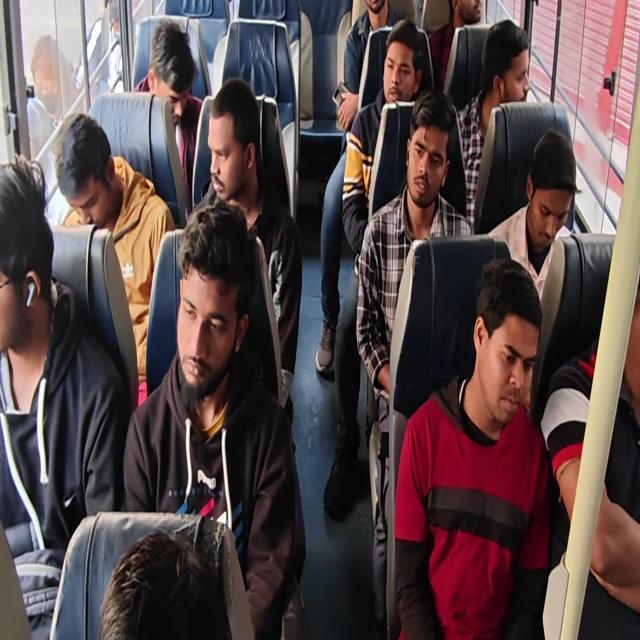person: (97, 514, 239, 640), (170, 200, 254, 406), (0, 155, 56, 359), (480, 252, 543, 430), (48, 102, 122, 230), (514, 126, 581, 255), (199, 81, 263, 205), (402, 94, 458, 218), (146, 9, 197, 134), (482, 11, 535, 112), (612, 239, 640, 417), (379, 6, 421, 117), (448, 0, 490, 32), (362, 0, 391, 36)
